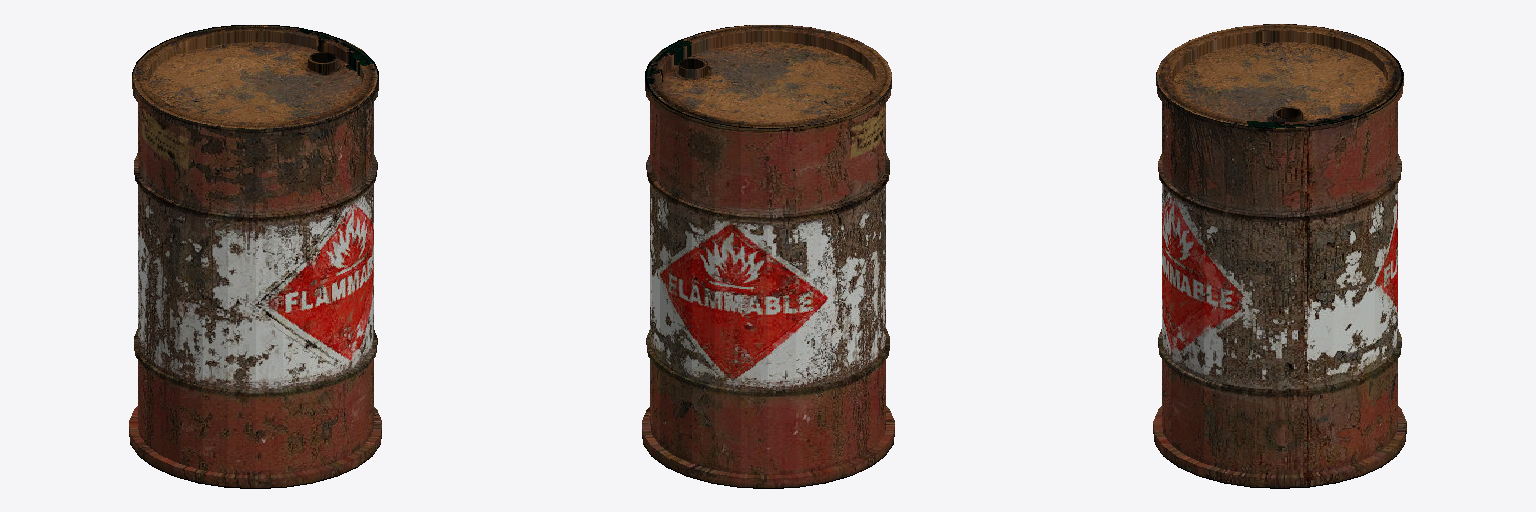
3 renders of one model, left to right at view 1: azimuth 30°, elevation 25°; view 2: azimuth 150°, elevation 25°; view 3: azimuth 270°, elevation 25°, orthographic.
Parts seen in each view (by area): view 1: pCylinder1; view 2: pCylinder1; view 3: pCylinder1.
Part boxes in pixels (x1,y1,x2,y2): pCylinder1: (129, 25, 381, 488); pCylinder1: (642, 25, 894, 488); pCylinder1: (1153, 24, 1406, 488).
Size of the model in its own units: 0.6555 by 1.03 by 0.6566.
1 materials, 1 textured.